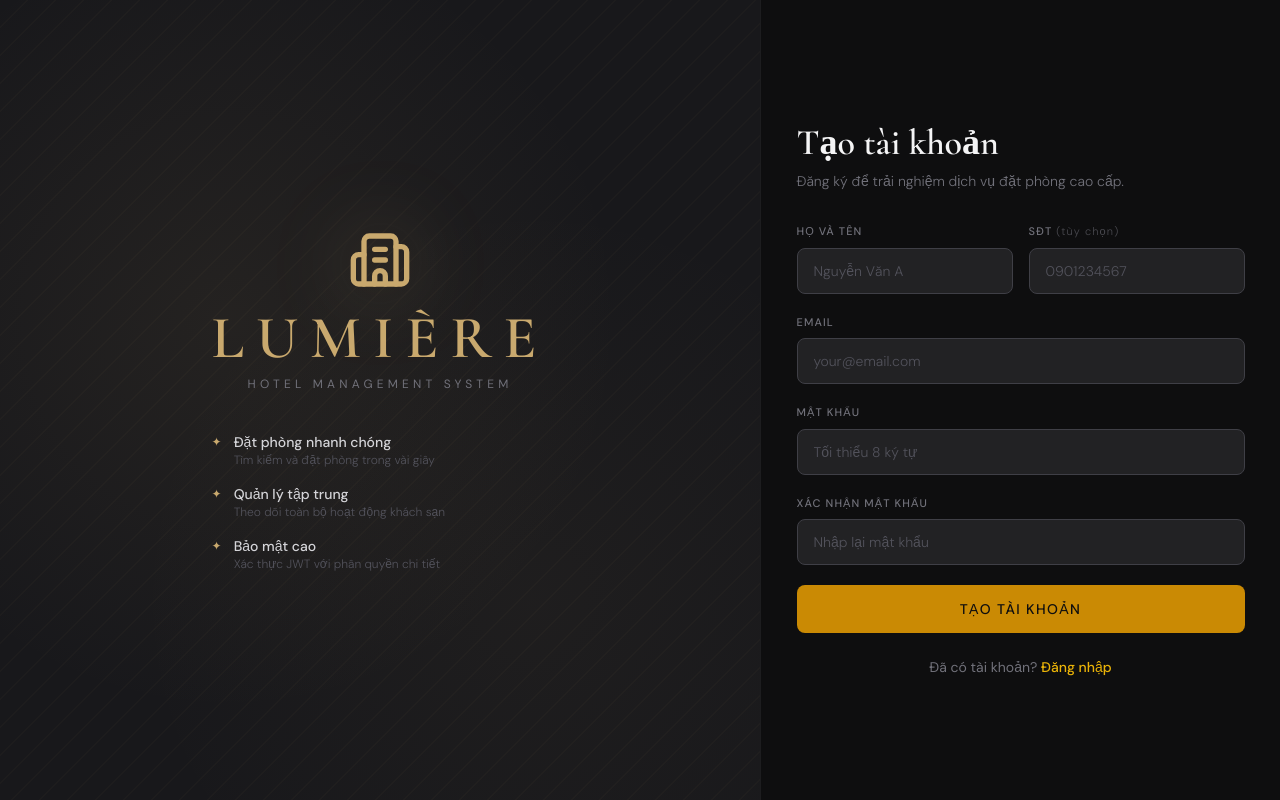
Test case: RegisterPage › should show invalid phone error
In the field with placeholder "0901234567": (1136, 270) [1028,248,1244,294], type "abc123"
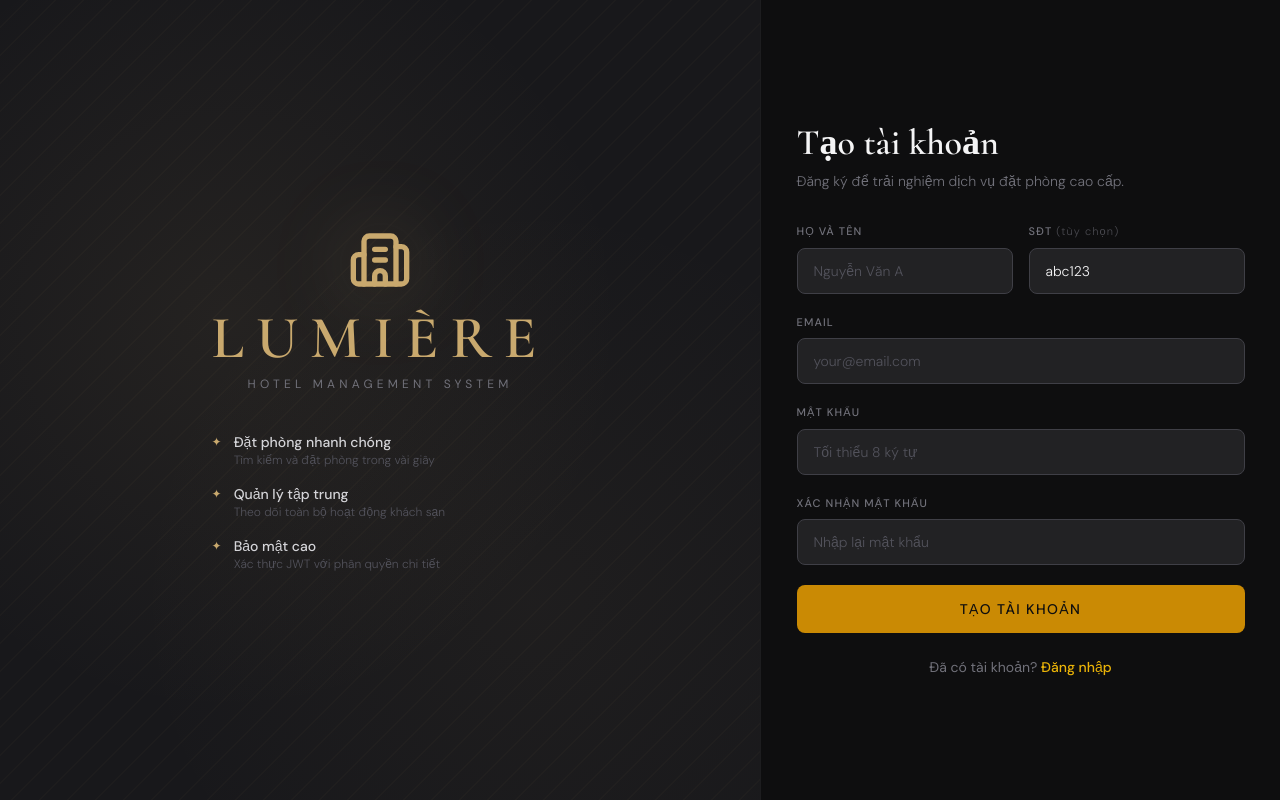
Leave the field with placeholder "0901234567", box [1028,248,1244,294]
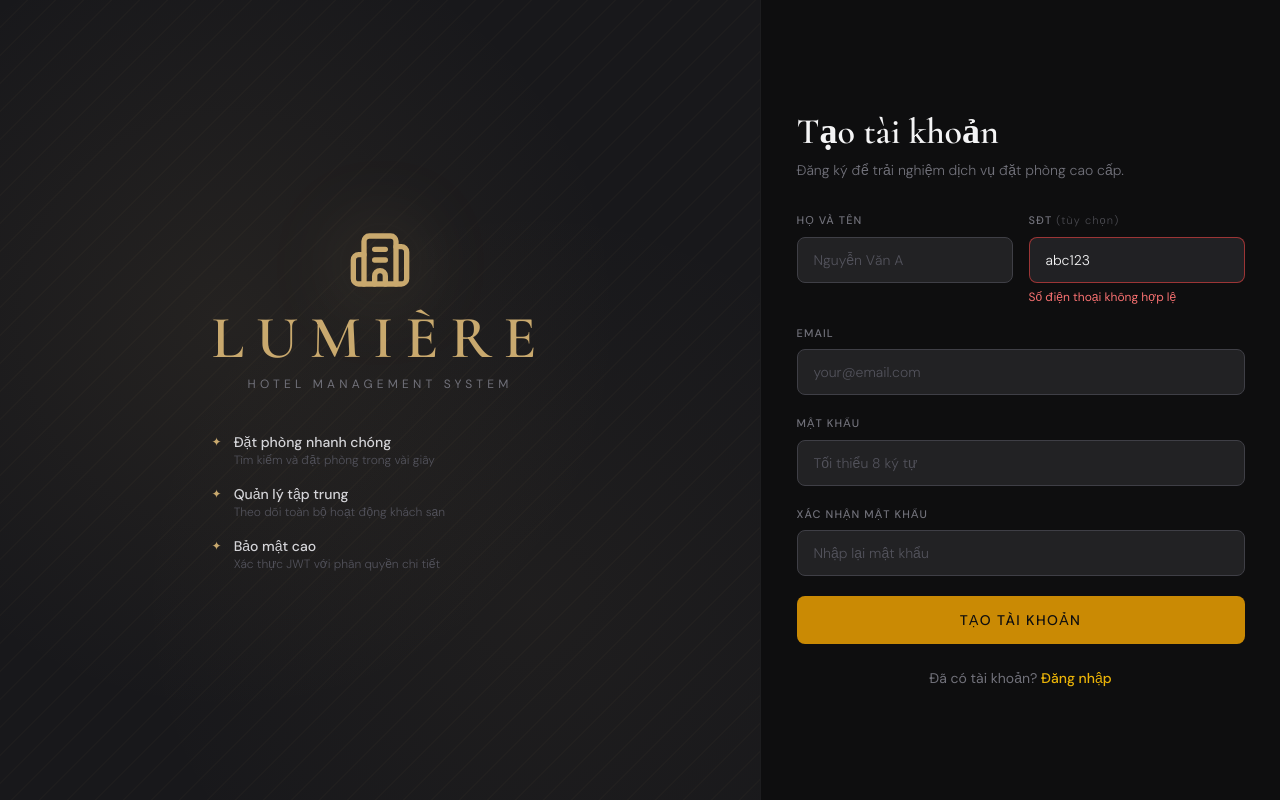
Now the text "Số điện thoại không hợp lệ" is shown, box [1028,288,1176,304]
